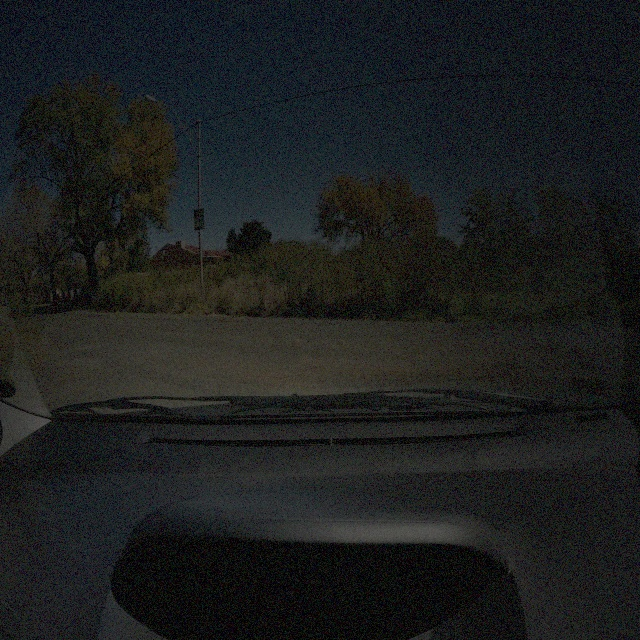pothole: (530, 340, 598, 373)
